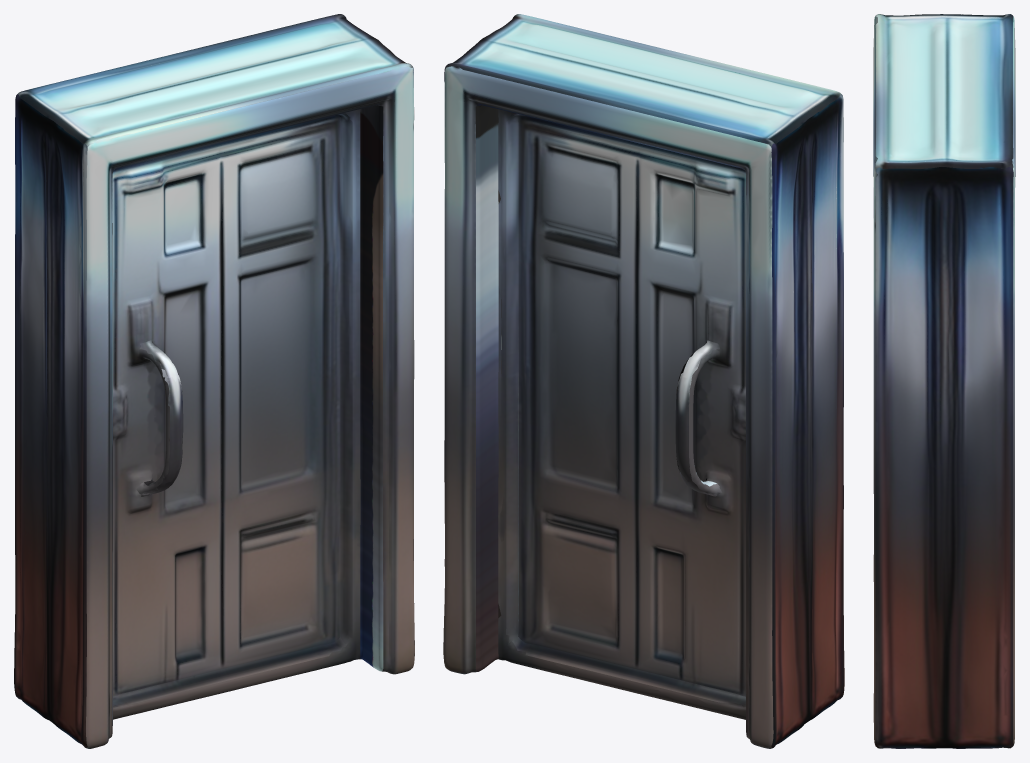
The model's file is steeldoor.fbx.
3 views of the same model, side by side, from view 1: azimuth 30°, elevation 25°; view 2: azimuth 150°, elevation 25°; view 3: azimuth 270°, elevation 25° (orthographic). The views are drawn at different scales.
Parts seen in each view (by area): view 1: tmpm_q2nn7w.ply; view 2: tmpm_q2nn7w.ply; view 3: tmpm_q2nn7w.ply.
Boxes of the visible parts, left/top/right/bottom form: tmpm_q2nn7w.ply: left=14, top=14, right=414, bottom=748; tmpm_q2nn7w.ply: left=443, top=14, right=844, bottom=748; tmpm_q2nn7w.ply: left=873, top=14, right=1015, bottom=748.
Bounding box in the file's own units: 114 × 199 × 43.9.
1 material, 1 textured.
